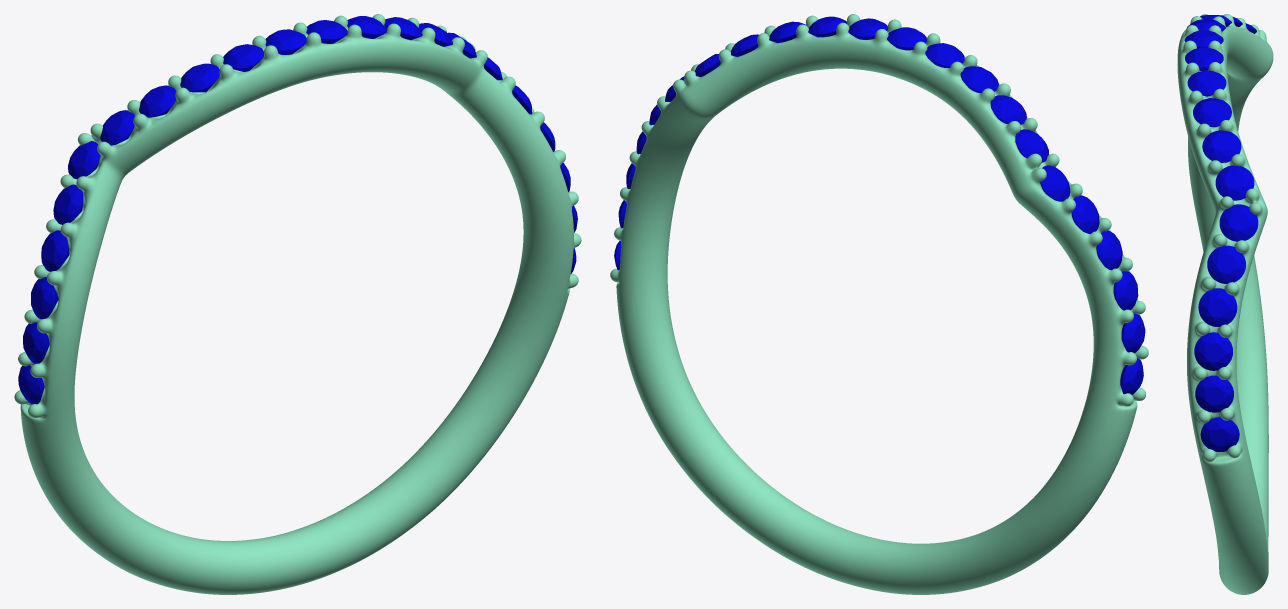
The picture shows the model from 3 angles, left to right: view 1: azimuth 30°, elevation 25°; view 2: azimuth 150°, elevation 25°; view 3: azimuth 270°, elevation 25°; orthographic projection. The views are drawn at different scales.
Parts seen in each view (by area): view 1: Metal03, Diamond_Band.004, Diamond_Band.007, Diamond_Band.003, Diamond_Band.006, Diamond_Band.005, Diamond_Band.008, Diamond_Band.002, Diamond_Band.009, Diamond_Band.001, Diamond_Band.010; view 2: Metal03, Diamond_Band.004, Diamond_Band.007, Diamond_Band.005, Diamond_Band.003, Diamond_Band.008, Diamond_Band.006, Diamond_Band.002, Diamond_Band.009, Diamond_Band.001; view 3: Metal03, Diamond_Band.018, Diamond_Band.017, Diamond_Band.021, Diamond_Band.016, Diamond_Band.020, Diamond_Band.015, Diamond_Band.019, Diamond_Band.014, Diamond_Band.013, Diamond_Band.012, Diamond_Band.011 (+2 smaller).
Part boxes in pixels (x1,y1,x2,y2): Metal03: [14, 14, 581, 594]; Diamond_Band.004: [53, 184, 83, 224]; Diamond_Band.007: [139, 85, 176, 117]; Diamond_Band.003: [41, 230, 69, 271]; Diamond_Band.006: [100, 110, 134, 145]; Diamond_Band.005: [68, 141, 100, 179]; Diamond_Band.008: [180, 63, 219, 92]; Diamond_Band.002: [31, 277, 58, 319]; Diamond_Band.009: [223, 44, 263, 71]; Diamond_Band.001: [23, 322, 49, 363]; Diamond_Band.010: [265, 29, 306, 54]; Metal03: [610, 14, 1148, 594]; Diamond_Band.004: [1071, 195, 1099, 233]; Diamond_Band.007: [990, 95, 1026, 124]; Diamond_Band.005: [1040, 165, 1070, 201]; Diamond_Band.003: [1096, 230, 1122, 270]; Diamond_Band.008: [960, 66, 998, 93]; Diamond_Band.006: [1015, 129, 1048, 162]; Diamond_Band.002: [1113, 271, 1138, 310]; Diamond_Band.009: [925, 43, 964, 67]; Diamond_Band.001: [1121, 313, 1145, 353]; Metal03: [1177, 14, 1273, 594]; Diamond_Band.018: [1198, 288, 1237, 326]; Diamond_Band.017: [1207, 245, 1245, 283]; Diamond_Band.021: [1194, 332, 1232, 370]; Diamond_Band.016: [1219, 204, 1258, 241]; Diamond_Band.020: [1195, 375, 1233, 412]; Diamond_Band.015: [1215, 165, 1254, 200]; Diamond_Band.019: [1200, 417, 1239, 451]; Diamond_Band.014: [1202, 130, 1241, 162]; Diamond_Band.013: [1193, 98, 1231, 126]; Diamond_Band.012: [1187, 70, 1226, 96]; Diamond_Band.011: [1185, 47, 1223, 70].
Bounding box in the file's own units: 20.94 × 20.92 × 3.46.
